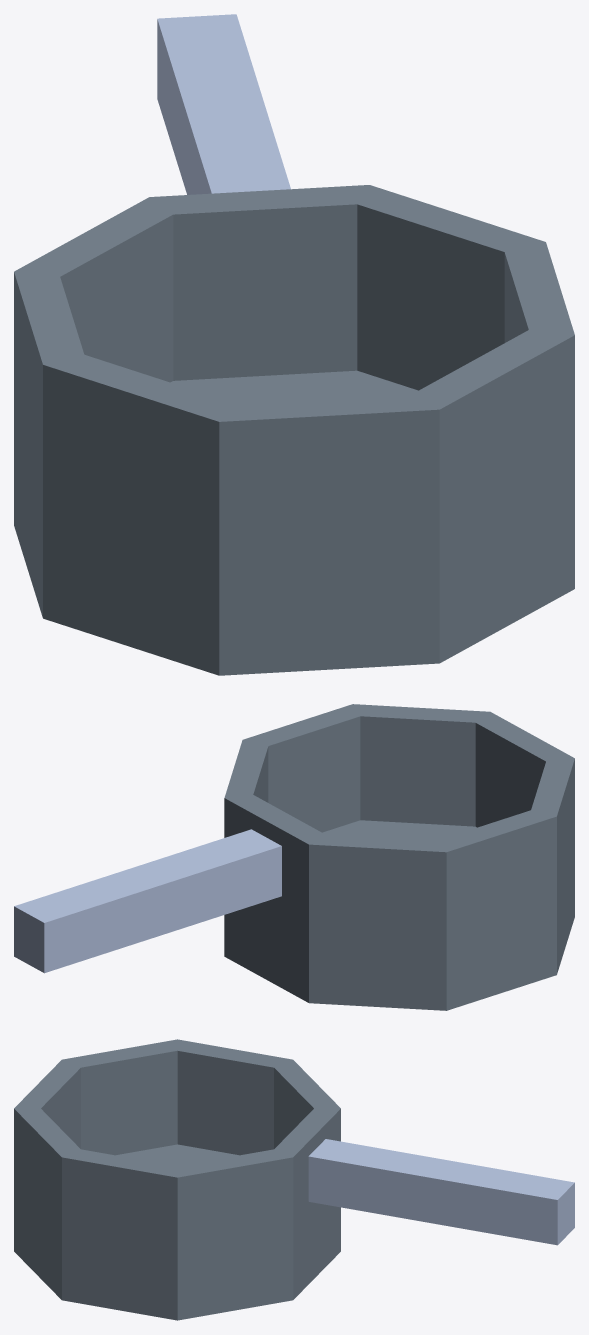
File: Saucepan.fbx
The picture shows the model from 3 angles, top to bottom: view 1: azimuth 30°, elevation 25°; view 2: azimuth 150°, elevation 25°; view 3: azimuth 270°, elevation 25°; orthographic projection. The views are drawn at different scales.
Visible parts, largest first — view 1: SaucePan; view 2: SaucePan; view 3: SaucePan.
Boxes of the visible parts, x1,y1,x2,y2 form: SaucePan: (14, 14, 574, 675); SaucePan: (14, 704, 574, 1010); SaucePan: (14, 1039, 574, 1320).
Size of the model in its own units: 117 by 53.62 by 191.
